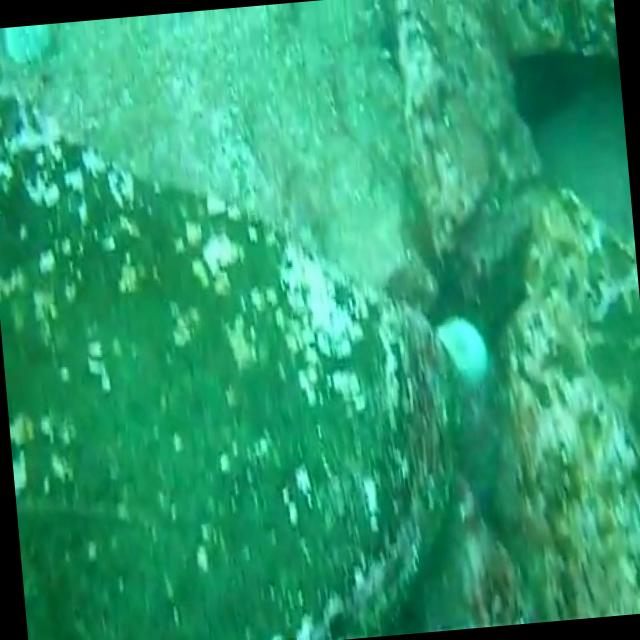Deniz Kestanesi: (431, 297, 498, 385)
